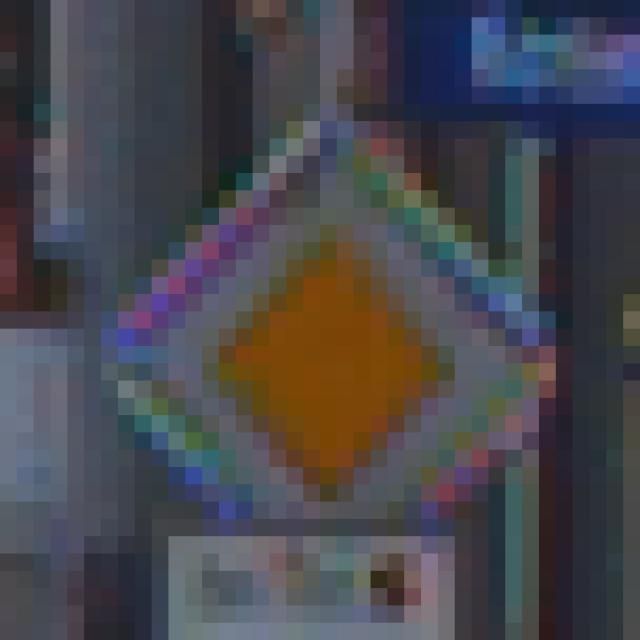Main Road: (85, 88, 557, 555)
